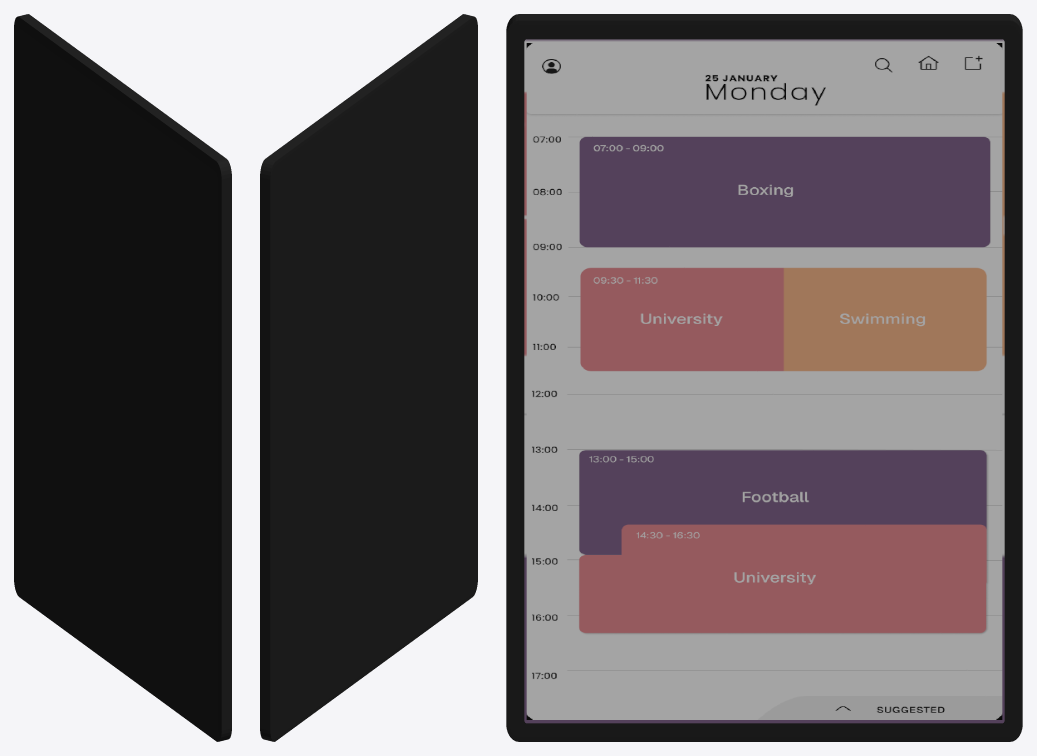
Rendered from board2.glb.
The picture shows the model from 3 angles, left to right: view 1: azimuth 30°, elevation 25°; view 2: azimuth 150°, elevation 25°; view 3: azimuth 270°, elevation 25°; orthographic projection. The views are drawn at different scales.
Visible parts, largest first — view 1: Cube; view 2: Cube; view 3: Screen, Cube.
Boxes of the visible parts, x1,y1,x2,y2 form: Cube: (14,14,231,741); Cube: (260,14,477,741); Screen: (524,39,1004,723); Cube: (506,14,1022,741).
Size of the model in its own units: 0.3265 by 16.51 by 10.71.
Materials: 2 (1 with a texture image).
